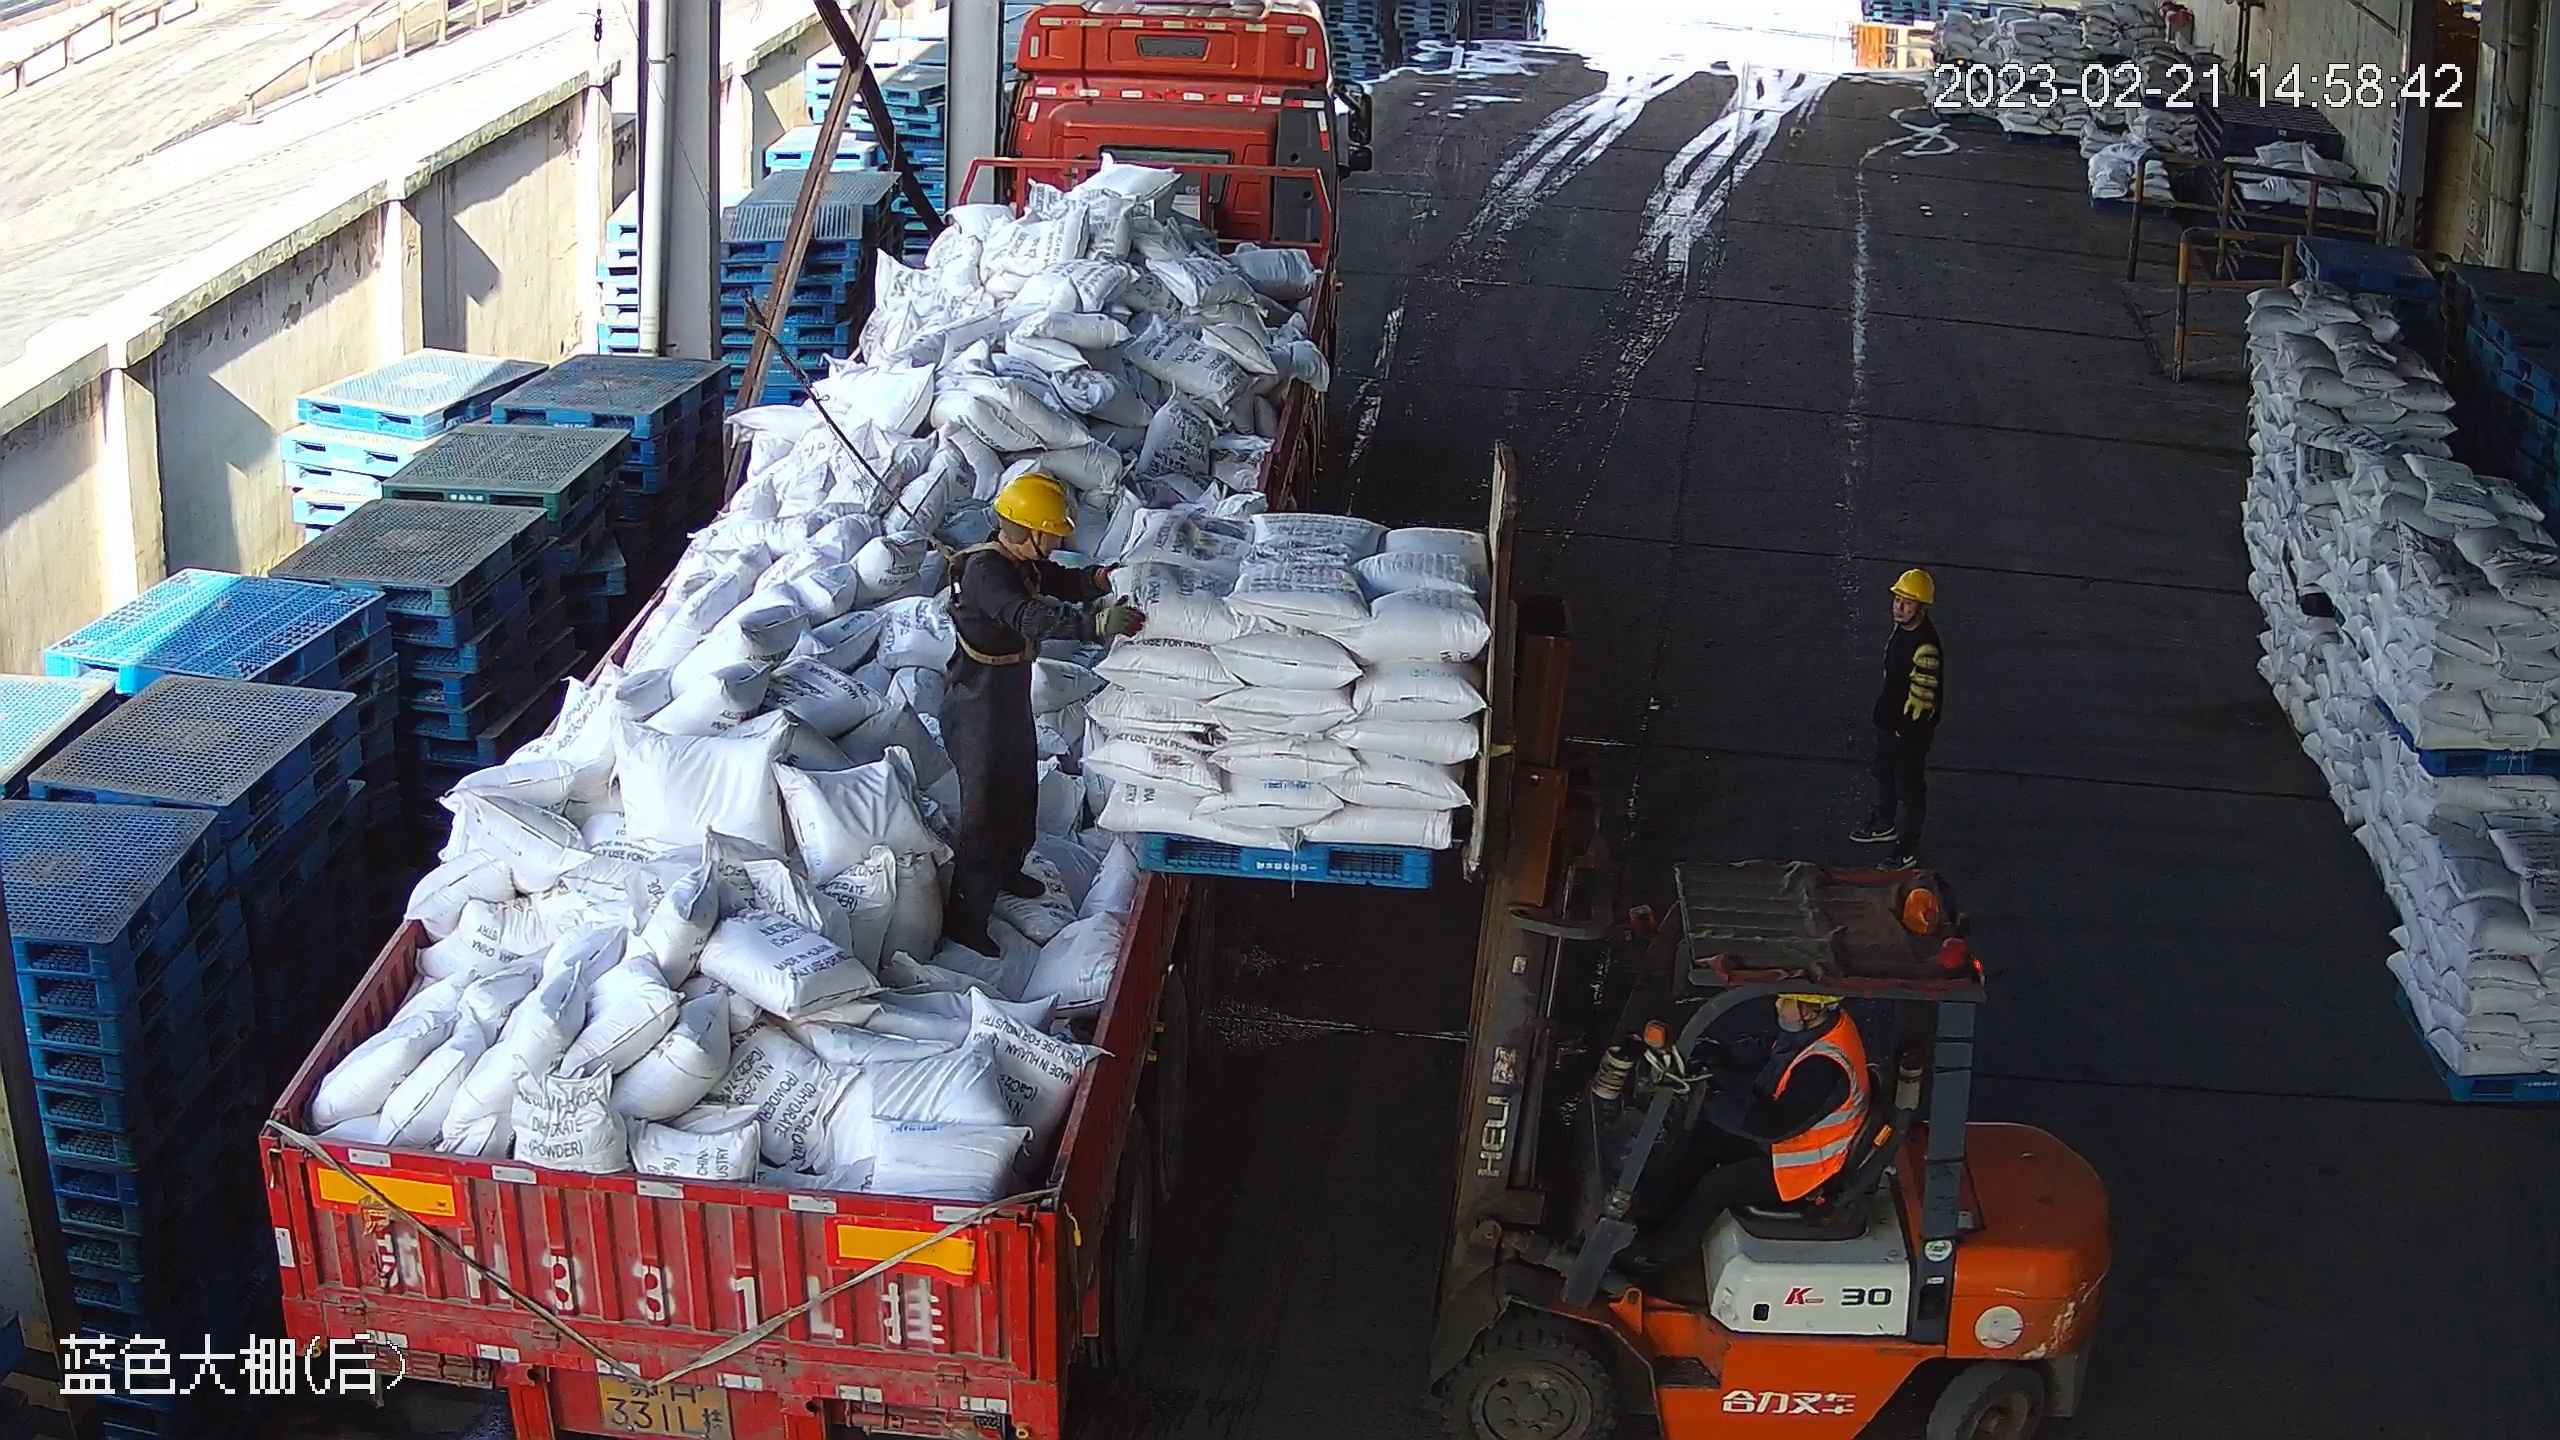belt: (940, 530, 1033, 671)
head: (957, 470, 1098, 635), (1745, 995, 1872, 1123), (1878, 561, 1940, 664)
helmet: (993, 475, 1076, 542), (1890, 570, 1933, 606)
people: (921, 470, 1131, 961), (1621, 992, 1874, 1287), (1847, 564, 1947, 878)
truck: (243, 1, 1371, 1439)
